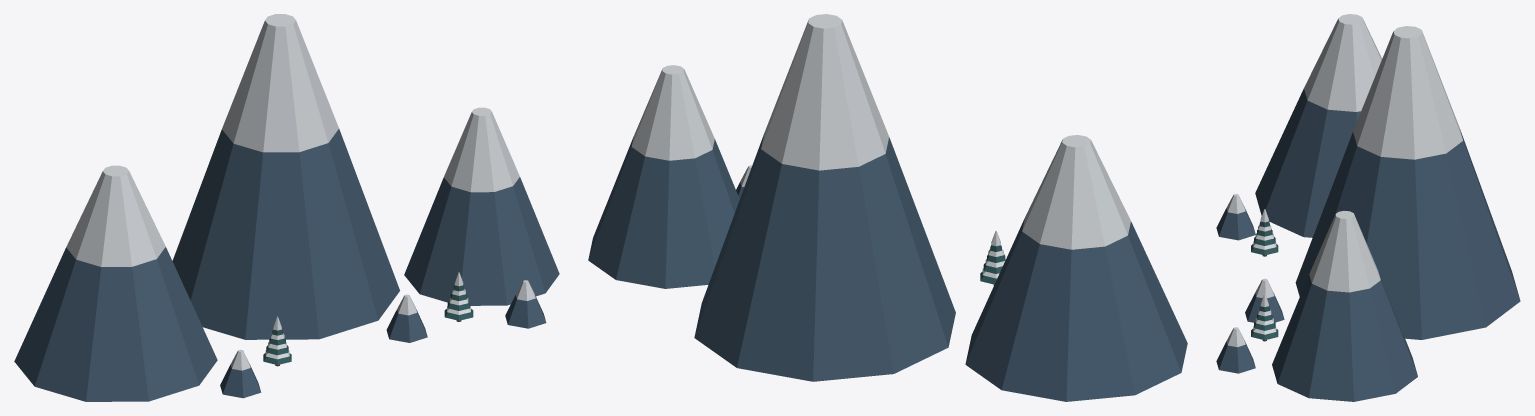
Rendered from Frosty_MountainBackdrop_Showcase.glb.
The picture shows the model from 3 angles, left to right: view 1: azimuth 30°, elevation 25°; view 2: azimuth 150°, elevation 25°; view 3: azimuth 270°, elevation 25°; orthographic projection. The views are drawn at different scales.
Parts seen in each view (by area): view 1: Frosty_MountainBackdrop_Showcase; view 2: Frosty_MountainBackdrop_Showcase; view 3: Frosty_MountainBackdrop_Showcase.
Part boxes in pixels (x1,y1,x2,y2): Frosty_MountainBackdrop_Showcase: (14, 14, 559, 401); Frosty_MountainBackdrop_Showcase: (588, 14, 1187, 401); Frosty_MountainBackdrop_Showcase: (1216, 14, 1520, 401).
Size of the model in its own units: 19.96 by 10 by 10.61.
